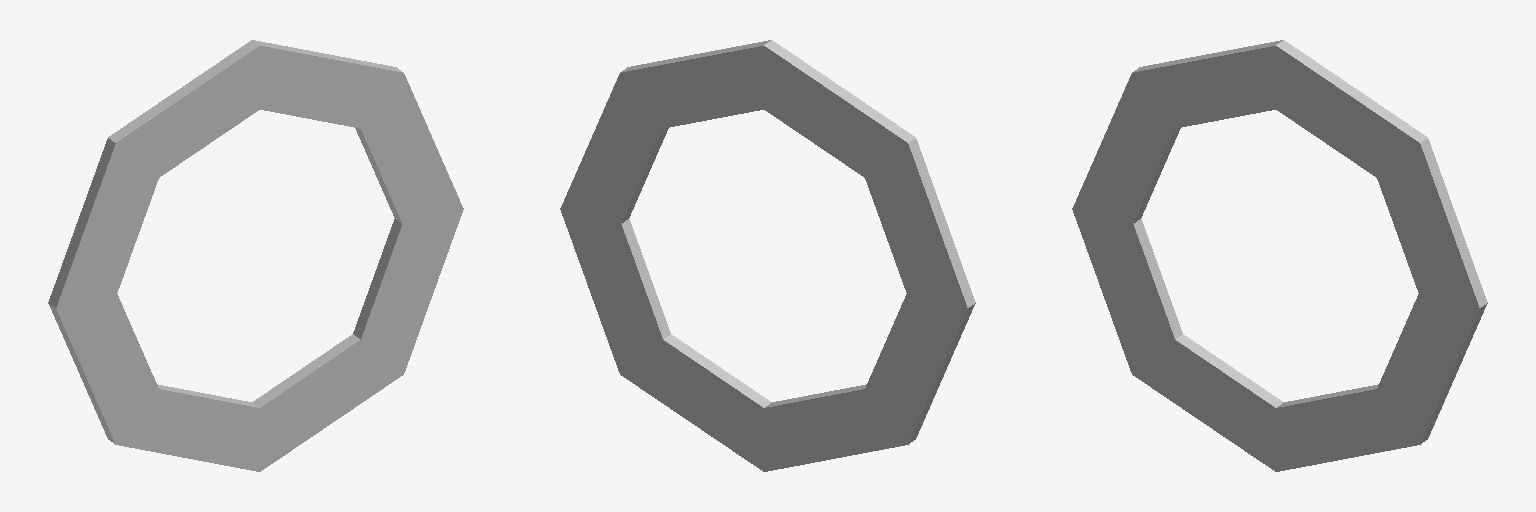
The model's file is RiftMachien_Ring.obj.
The picture shows the model from 3 angles: view 1: azimuth 30°, elevation 25°; view 2: azimuth 150°, elevation 25°; view 3: azimuth 330°, elevation 25°; orthographic projection.
Size of the model in its own units: 13.82 by 13.82 by 0.4636.